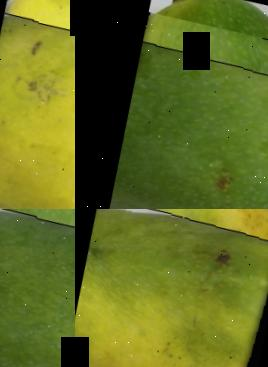PartiallyRipe: (75, 209, 268, 367), (0, 0, 75, 209)
Unripe: (84, 4, 268, 209), (0, 209, 75, 367)
